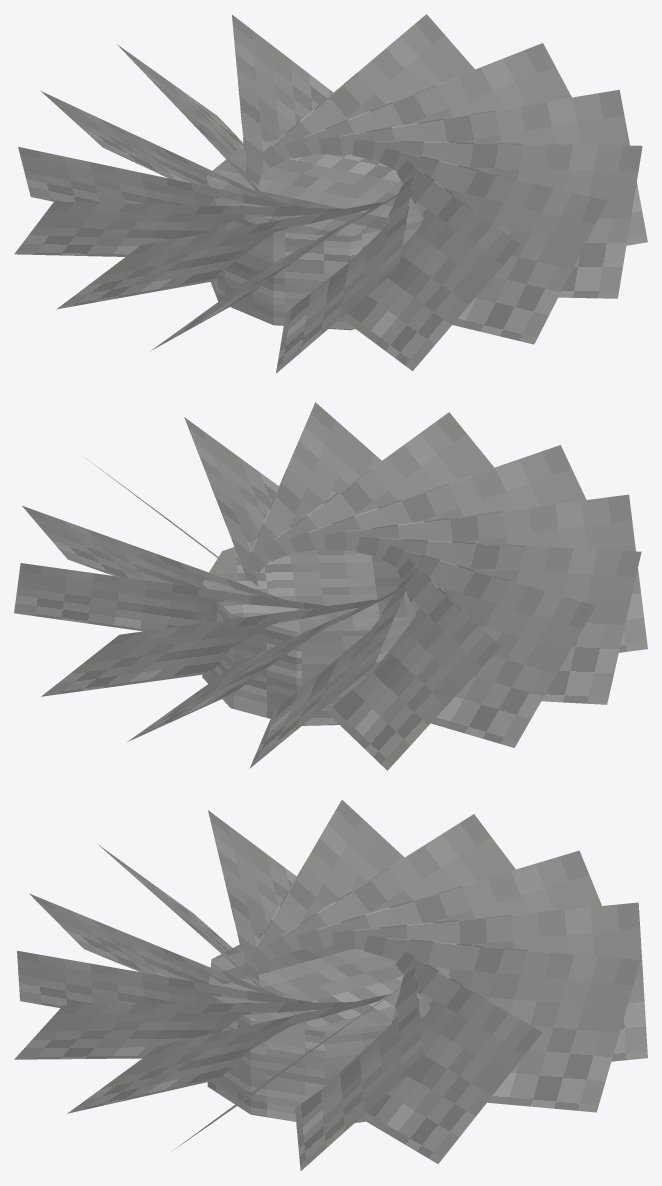
The model's file is fan.glb.
The picture shows the model from 3 angles, top to bottom: view 1: azimuth 30°, elevation 25°; view 2: azimuth 150°, elevation 25°; view 3: azimuth 270°, elevation 25°; orthographic projection.
Visible parts, largest first — view 1: Blades; view 2: Blades; view 3: Blades.
Boxes of the visible parts, bbox=[...] form: Blades: bbox=[14, 14, 647, 373]; Blades: bbox=[14, 402, 647, 770]; Blades: bbox=[14, 800, 647, 1170].
Size of the model in its own units: 1.66 by 0.3992 by 1.64.
1 material, 1 textured.
